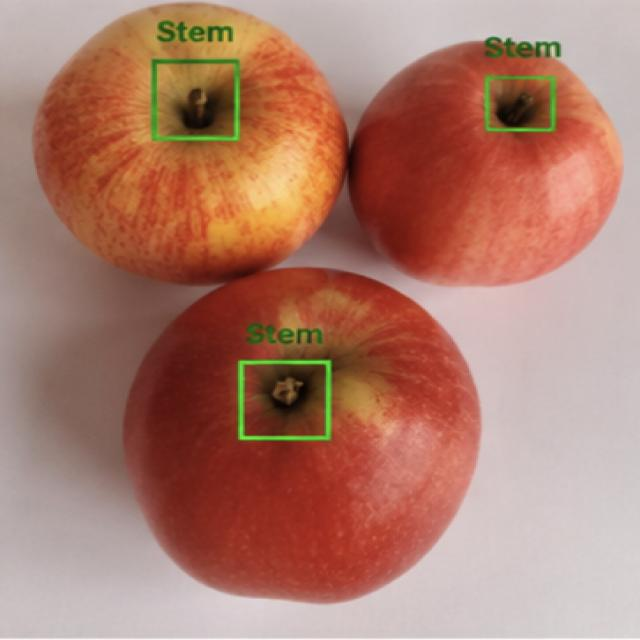Fruit-Stem-Detection: (146, 58, 238, 141), (242, 358, 328, 438), (490, 77, 552, 127)
